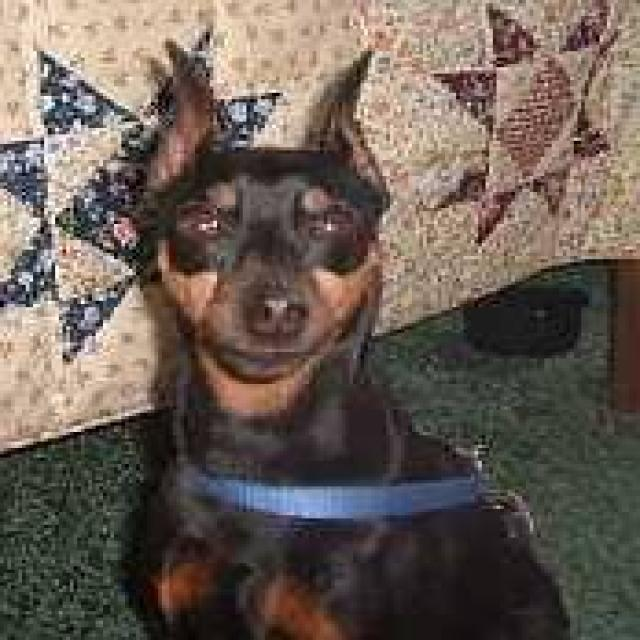dogs: (108, 20, 581, 640)
